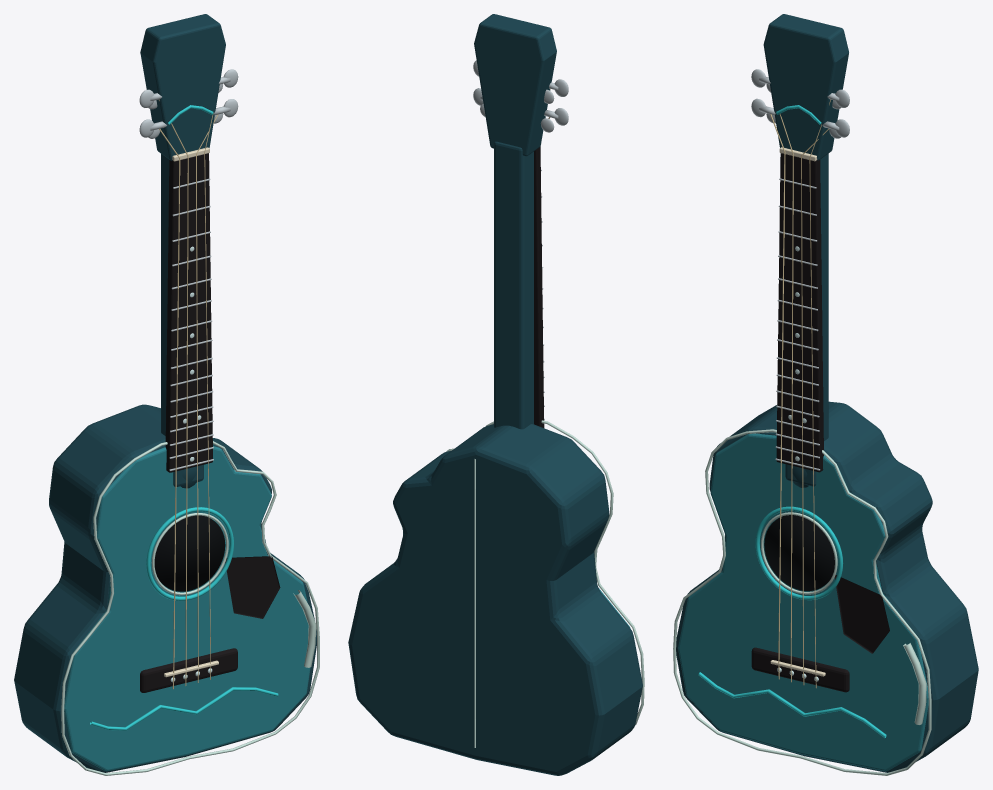
Rendered from rashin-harbor-acoustic-bass-hero.glb.
3 views of the same model, side by side, from view 1: azimuth 30°, elevation 25°; view 2: azimuth 150°, elevation 25°; view 3: azimuth 330°, elevation 25° (orthographic). The views are drawn at different scales.
Parts seen in each view (by area): view 1: harbor_bookmatched_top, harbor_body_shell, harbor_fingerboard, harbor_headstock, harbor_soundhole_shadow, harbor_front_binding, harbor_deepwater_pickguard, harbor_neck_core, harbor_bridge, harbor_rosette_outer, harbor_course_0_string_0, harbor_course_1_string_0 (+5 smaller); view 2: harbor_body_shell, harbor_neck_core, harbor_headstock, harbor_fingerboard, harbor_front_binding, harbor_back_center_seam; view 3: harbor_bookmatched_top, harbor_body_shell, harbor_fingerboard, harbor_headstock, harbor_soundhole_shadow, harbor_front_binding, harbor_deepwater_pickguard, harbor_neck_core, harbor_bridge, harbor_rosette_outer, harbor_course_0_string_0, harbor_course_1_string_0 (+5 smaller).
Boxes of the visible parts, <box> form: harbor_bookmatched_top: <box>64,446,310,771</box>; harbor_body_shell: <box>14,404,316,772</box>; harbor_fingerboard: <box>165,153,212,472</box>; harbor_headstock: <box>140,14,225,160</box>; harbor_soundhole_shadow: <box>154,515,225,591</box>; harbor_front_binding: <box>61,441,319,775</box>; harbor_deepwater_pickguard: <box>225,556,280,618</box>; harbor_neck_core: <box>161,154,203,486</box>; harbor_bridge: <box>140,648,237,692</box>; harbor_rosette_outer: <box>146,507,233,600</box>; harbor_course_0_string_0: <box>159,129,180,689</box>; harbor_course_1_string_0: <box>159,99,188,685</box>; harbor_body_shell: <box>348,424,642,775</box>; harbor_neck_core: <box>494,141,533,429</box>; harbor_headstock: <box>474,14,556,156</box>; harbor_fingerboard: <box>534,146,544,427</box>; harbor_front_binding: <box>446,420,644,725</box>; harbor_back_center_seam: <box>474,459,475,747</box>; harbor_bookmatched_top: <box>678,433,928,771</box>; harbor_body_shell: <box>676,401,978,772</box>; harbor_fingerboard: <box>776,153,823,472</box>; harbor_headstock: <box>763,14,848,160</box>; harbor_soundhole_shadow: <box>764,515,834,590</box>; harbor_front_binding: <box>673,429,931,775</box>; harbor_deepwater_pickguard: <box>834,575,889,653</box>; harbor_neck_core: <box>785,153,828,486</box>; harbor_bridge: <box>751,647,849,692</box>; harbor_rosette_outer: <box>755,506,843,600</box>; harbor_course_0_string_0: <box>770,114,785,679</box>; harbor_course_1_string_0: <box>779,114,793,682</box>.
Size of the model in its own units: 0.456 by 1.22 by 0.1541.
